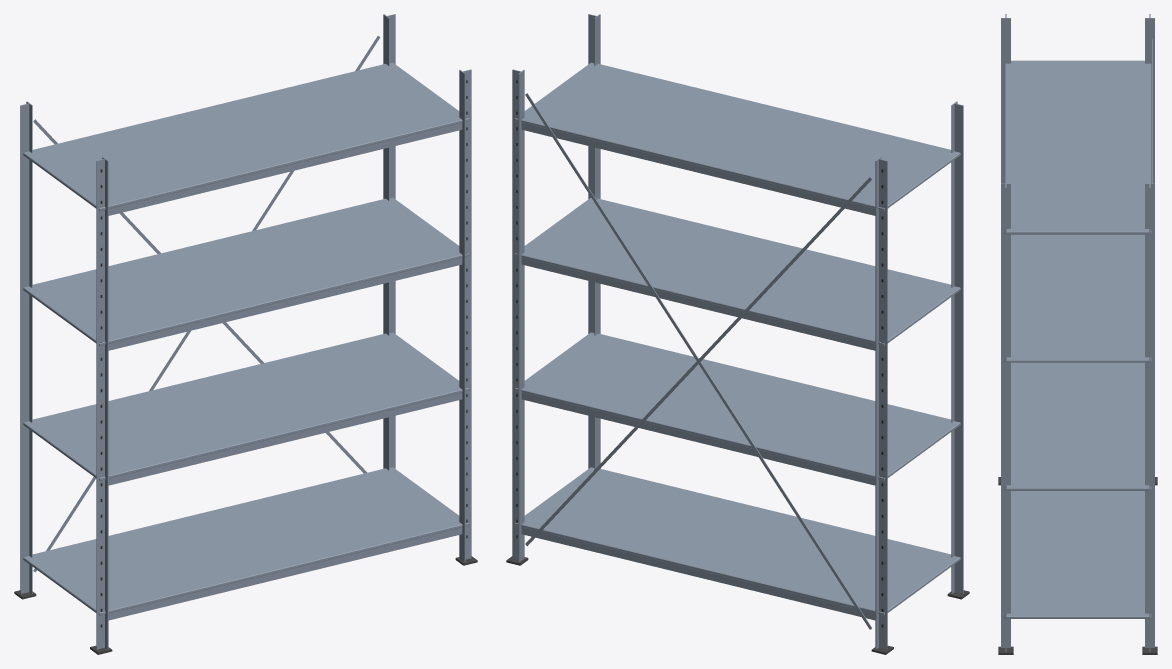
Rendered from shelf.fbx.
The picture shows the model from 3 angles, left to right: view 1: azimuth 30°, elevation 25°; view 2: azimuth 150°, elevation 25°; view 3: azimuth 270°, elevation 25°; orthographic projection. The views are drawn at different scales.
Visible parts, largest first — view 1: Shelf; view 2: Shelf; view 3: Shelf.
Boxes of the visible parts, left/top/right/bottom form: Shelf: left=14, top=14, right=477, bottom=654; Shelf: left=506, top=14, right=969, bottom=654; Shelf: left=998, top=14, right=1157, bottom=654.
Bounding box in the file's own units: 1.62 × 2 × 0.62.
